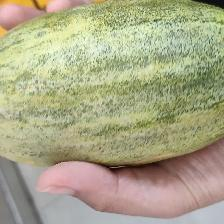gua: (7, 12, 224, 163)
